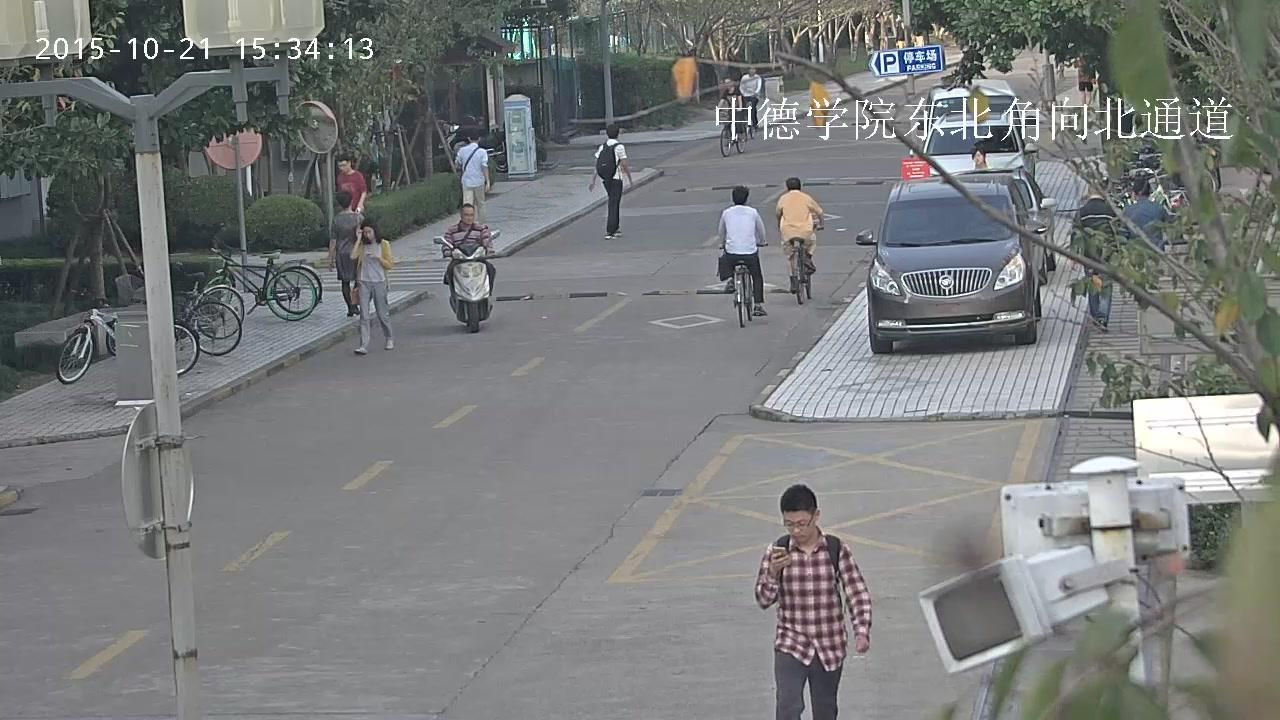face: (784, 510, 813, 542), (462, 207, 473, 224), (337, 160, 349, 172), (364, 226, 374, 240), (974, 150, 983, 165), (724, 79, 732, 89), (748, 68, 755, 74)
